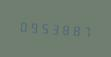eight: (61, 20, 71, 38), (72, 21, 82, 38)
five: (39, 18, 49, 36)
nine: (28, 18, 38, 35)
seven: (83, 21, 93, 39)
three: (50, 19, 60, 37)
zero: (17, 17, 27, 35)
